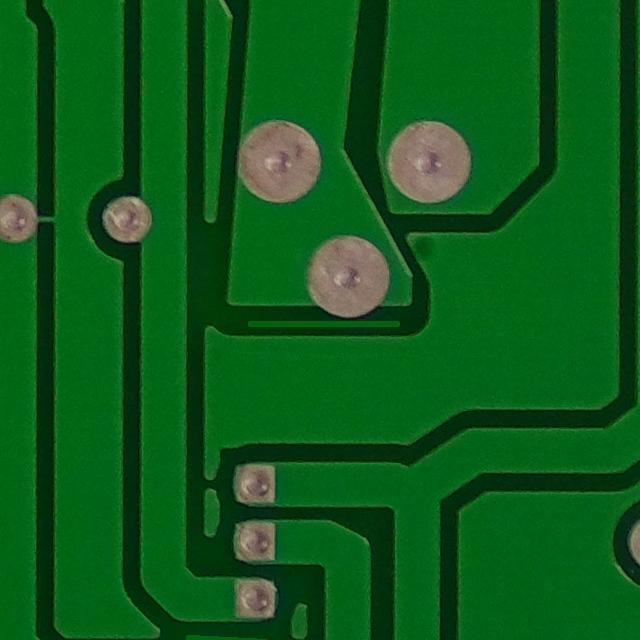spurious_copper: (232, 304, 408, 337)
